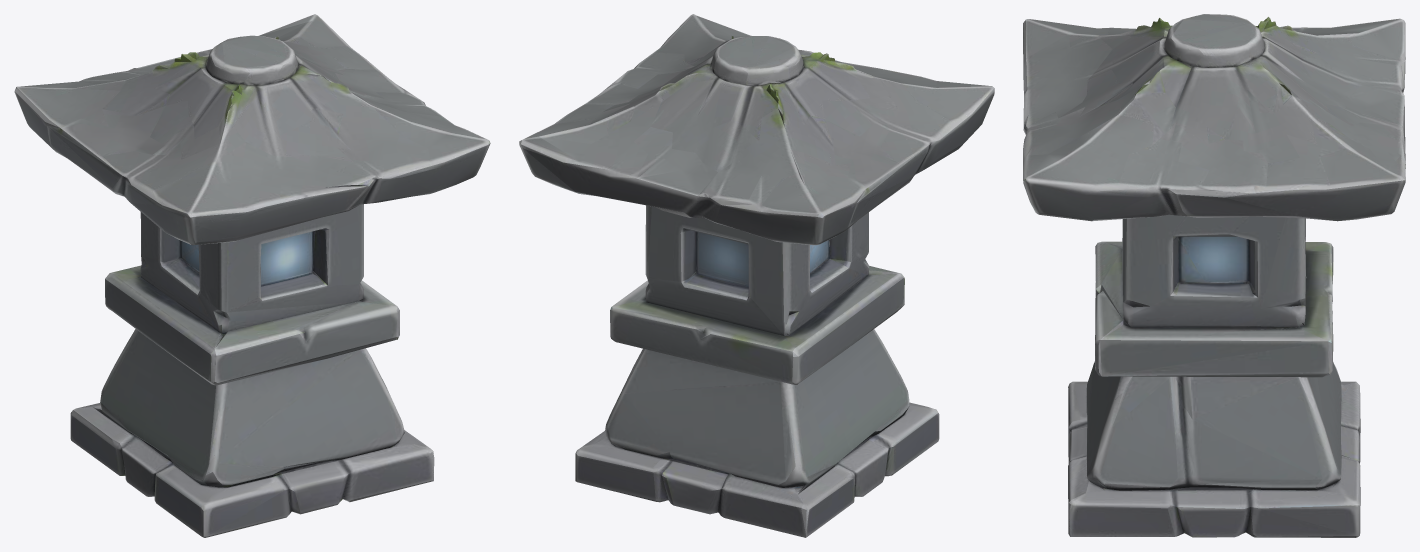
Rendered from stone_lantern.glb.
3 renders of one model, left to right at view 1: azimuth 30°, elevation 25°; view 2: azimuth 150°, elevation 25°; view 3: azimuth 270°, elevation 25°, orthographic. The views are drawn at different scales.
Visible parts, largest first — view 1: stone_lantern; view 2: stone_lantern; view 3: stone_lantern.
Part boxes in pixels (x1,y1,x2,y2): stone_lantern: (14, 14, 490, 537); stone_lantern: (519, 14, 994, 537); stone_lantern: (1023, 14, 1405, 537).
Bounding box in the file's own units: 1.4 × 1.8 × 1.4.
1 material, 1 textured.
